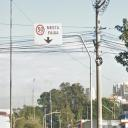speed_limit_50: (35, 24, 45, 36)
